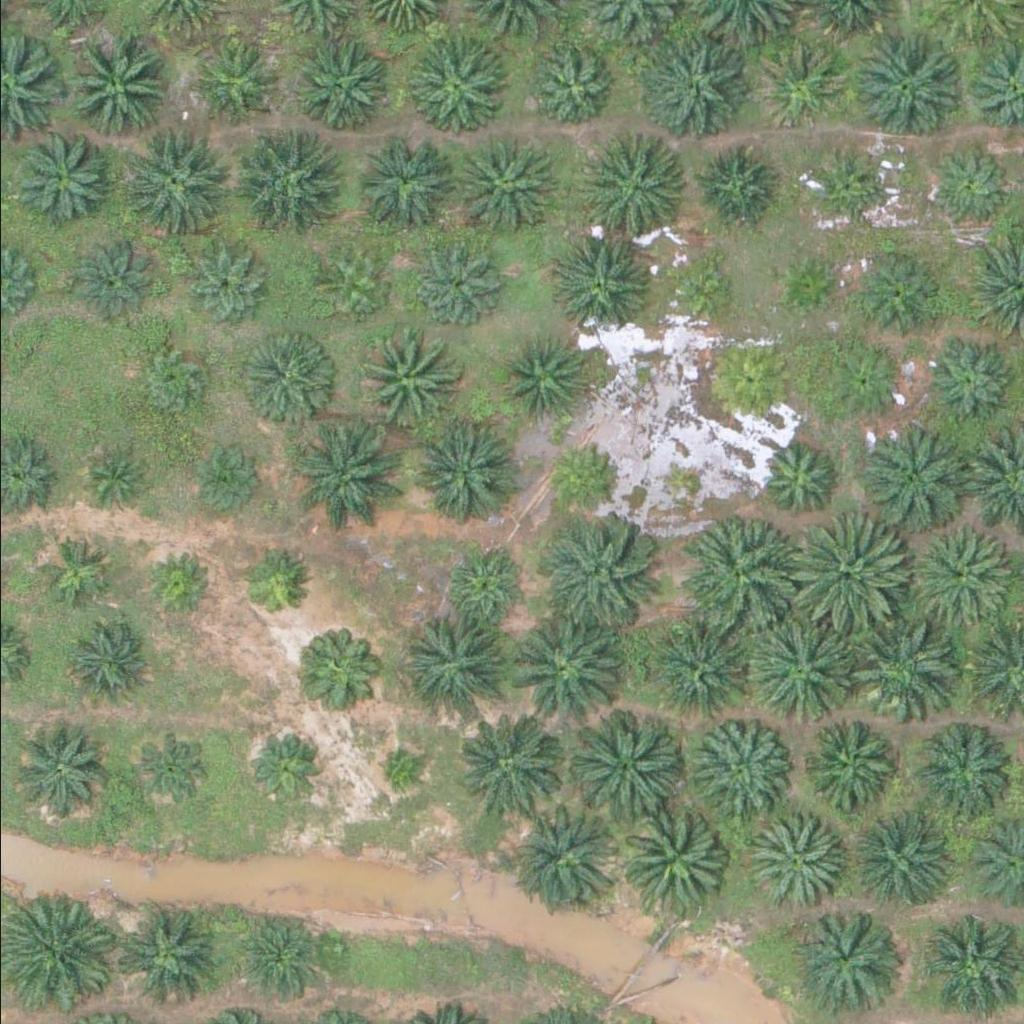Kelapa_Sawit: (567, 706, 680, 819), (450, 703, 563, 816), (686, 521, 799, 634), (538, 518, 651, 631), (850, 611, 963, 724), (57, 35, 171, 147), (507, 610, 621, 722), (748, 614, 862, 726), (796, 516, 910, 628), (640, 30, 753, 142), (229, 121, 342, 233), (115, 122, 228, 234), (289, 423, 402, 535), (615, 802, 728, 914), (507, 799, 620, 911), (398, 615, 511, 727), (850, 29, 963, 141), (858, 420, 971, 532), (7, 718, 108, 818), (5, 129, 106, 229), (286, 37, 387, 137), (410, 36, 511, 136), (446, 138, 547, 238), (355, 136, 456, 236), (548, 229, 649, 329), (355, 328, 456, 428), (416, 425, 517, 525), (116, 905, 217, 1005), (790, 906, 891, 1006), (741, 813, 842, 913), (796, 711, 897, 811), (688, 718, 789, 818), (908, 527, 1009, 627), (585, 135, 685, 235), (237, 329, 337, 429), (840, 811, 940, 911), (651, 625, 751, 725), (923, 915, 1023, 1015), (919, 723, 1019, 823), (706, 336, 795, 424), (125, 727, 214, 815), (437, 542, 525, 630), (820, 336, 908, 424), (198, 43, 286, 131), (65, 236, 153, 324), (183, 243, 271, 331), (300, 627, 388, 715), (922, 141, 1010, 229), (61, 621, 149, 709), (923, 338, 1012, 425), (757, 44, 845, 131), (523, 48, 611, 135), (693, 143, 781, 230), (416, 241, 504, 328), (496, 335, 584, 422), (244, 725, 332, 812), (241, 912, 329, 999), (752, 432, 840, 519), (850, 247, 938, 334), (547, 439, 623, 514), (185, 442, 261, 517), (73, 440, 149, 515), (770, 247, 846, 322), (662, 251, 738, 326), (800, 153, 875, 228), (236, 547, 311, 622), (315, 248, 390, 323), (36, 532, 111, 607), (131, 346, 206, 421), (140, 547, 215, 622), (367, 744, 417, 794)
